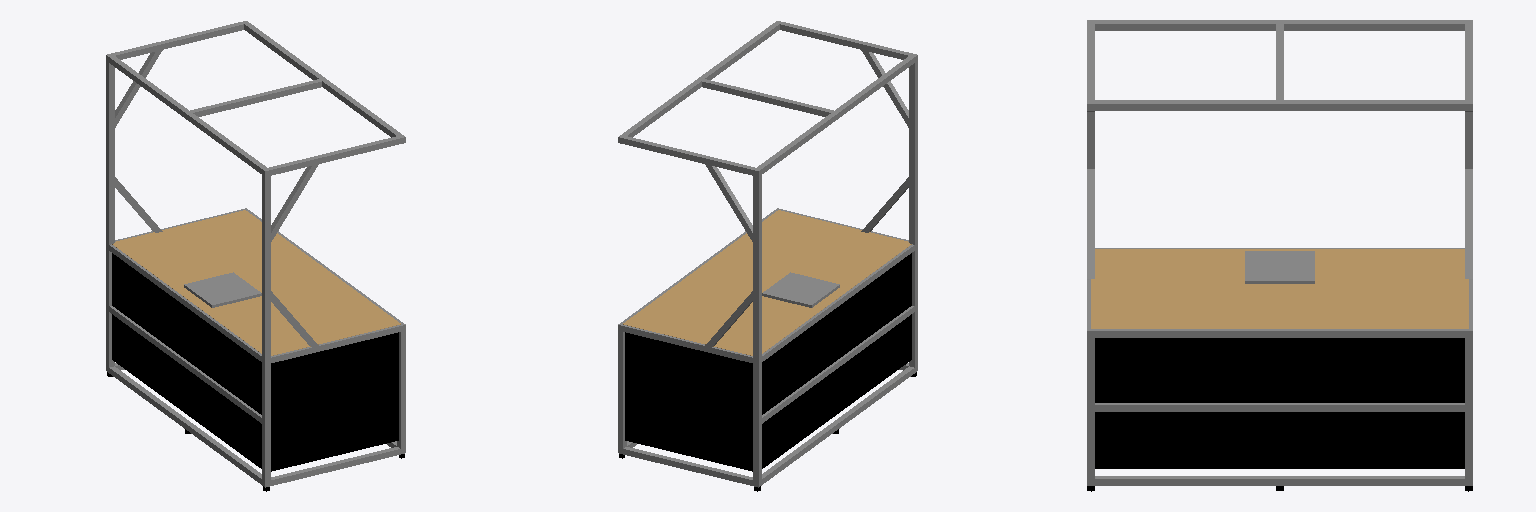
--- What the picture shows (computed from the rendered views, not written in the file) ---
The picture shows the robot from 3 angles, left to right: view 1: azimuth 30°, elevation 25°; view 2: azimuth 150°, elevation 25°; view 3: azimuth 270°, elevation 25°; orthographic projection.
Robot: robot — 34 links, 33 joints (33 fixed); root link table_plane; default pose: every joint at zero.
Links seen in each view (by area): view 1: support_body, table_plane, top_back, back_lower, top_back_right, top_front, top_back_left, panda_ground, back_mid, back_upper, top_side_right, vert_back_right (+8 smaller); view 2: support_body, table_plane, top_back, back_lower, top_back_left, top_front, top_back_right, panda_ground, back_mid, back_upper, top_side_left, vert_back_left (+8 smaller); view 3: support_body, table_plane, top_front, top_back, front_lower, front_upper, front_mid, panda_ground, vert_front_left, vert_front_right, rot_lower_right, rot_lower_left (+3 smaller).
Boxes of the visible links, x1,y1,x2,y2 form: support_body: (112, 253, 398, 471); table_plane: (112, 210, 400, 355); top_back: (109, 56, 266, 173); back_lower: (109, 366, 261, 484); top_back_right: (262, 168, 270, 358); top_front: (244, 23, 401, 137); top_back_left: (106, 53, 114, 244); panda_ground: (184, 272, 261, 307); back_mid: (109, 306, 261, 423); back_upper: (109, 244, 261, 361); top_side_right: (262, 135, 405, 176); vert_back_right: (262, 357, 270, 487); support_body: (625, 253, 911, 471); table_plane: (623, 210, 911, 355); top_back: (757, 56, 914, 173); back_lower: (762, 366, 914, 484); top_back_left: (753, 168, 761, 358); top_front: (622, 23, 779, 137); top_back_right: (909, 53, 917, 244); panda_ground: (762, 272, 839, 307); back_mid: (762, 306, 914, 423); back_upper: (762, 244, 914, 361); top_side_left: (618, 135, 761, 176); vert_back_left: (753, 357, 761, 487); support_body: (1095, 338, 1464, 468); table_plane: (1091, 249, 1468, 328); top_front: (1095, 100, 1464, 110); top_back: (1095, 20, 1464, 30); front_lower: (1095, 476, 1464, 485); front_upper: (1095, 329, 1464, 337); front_mid: (1095, 403, 1464, 411); panda_ground: (1245, 251, 1314, 283); vert_front_left: (1465, 327, 1472, 485); vert_front_right: (1087, 327, 1094, 485); rot_lower_right: (1465, 169, 1472, 278); rot_lower_left: (1087, 169, 1094, 278).
Size in the robot's own frame: 1.02 by 2 by 2.22 metres.
Geometry: primitives only (box / cylinder / sphere), no mesh files.

robot.urdf — robot:
<?xml version="0.0" ?>

<robot name="">
    <material name="rgba:table_plane">
    <color rgba= "0.8 0.655 0.45 1."/>
    </material>
    <material name="rgba:table">
        <color rgba= "0.6 0.6 0.6 1."/>
    </material>
    <material name="rgba:table_feet">
        <color rgba= "0. 0. 0. 1."/>
    </material>
	<link name="table_plane">
		<inertial>
			<origin rpy="0.00000 -0.00000 0.00000" xyz="0.00000 0.00000 0.00000"/>
			<mass value="3.84160"/>
			<inertia ixx="1.22983" ixy="0" ixz="0" iyy="0.30746" iyz="0" izz="1.53728"/>
		</inertial>
		<collision>
			<origin rpy="0.00000 -0.00000 0.00000" xyz="0.00000 0.00000 0.00000"/>
			<geometry>
				<box size="0.98000 1.96000 0.00200"/>
			</geometry>
		</collision>
		<visual>
		<origin rpy="0.00000 -0.00000 0.00000" xyz="0.00000 0.00000 0.00000"/>
            <geometry>
                <box size="0.98000 1.96000 0.00200"/>
            </geometry>
          <origin xyz="0 0 0" rpy="0 0 0" />
          <material name="rgba:table_plane"/>
        </visual>

	</link>
	<link name="panda_ground">
		<inertial>
			<origin rpy="0.00000 -0.00000 0.00000" xyz="0.00000 0.00000 0.00000"/>
			<mass value="2.59200"/>
			<inertia ixx="0.02808" ixy="0" ixz="0" iyy="0.02808" iyz="0" izz="0.05599"/>
		</inertial>
		<collision>
			<origin rpy="0.00000 -0.00000 0.00000" xyz="0.00000 0.00000 0.00000"/>
			<geometry>
				<box size="0.36000 0.36000 0.02000"/>
			</geometry>
		</collision>
		<visual>
			<origin rpy="0.00000 -0.00000 0.00000" xyz="0.00000 0.00000 0.00000"/>
			<geometry>
				<box size="0.36000 0.36000 0.02000"/>
			</geometry>
			<material name="rgba:table"/>
		</visual>
	</link>
	<link name="front_upper">
		<inertial>
			<origin rpy="0.00000 -0.00000 0.00000" xyz="0.00000 0.00000 0.00000"/>
			<mass value="3.07200"/>
			<inertia ixx="0.94413" ixy="0" ixz="0" iyy="0.00082" iyz="0" izz="0.94413"/>
		</inertial>
		<collision>
			<origin rpy="0.00000 -0.00000 0.00000" xyz="0.00000 0.00000 0.00000"/>
			<geometry>
				<box size="0.04000 1.92000 0.04000"/>
			</geometry>
		</collision>
		<visual>
			<origin rpy="0.00000 -0.00000 0.00000" xyz="0.00000 0.00000 0.00000"/>
			<geometry>
				<box size="0.04000 1.92000 0.04000"/>
			</geometry>
			<material name="rgba:table"/>
		</visual>
	</link>
	<link name="front_mid">
		<inertial>
			<origin rpy="0.00000 -0.00000 0.00000" xyz="0.00000 0.00000 0.00000"/>
			<mass value="3.07200"/>
			<inertia ixx="0.94413" ixy="0" ixz="0" iyy="0.00082" iyz="0" izz="0.94413"/>
		</inertial>
		<collision>
			<origin rpy="0.00000 -0.00000 0.00000" xyz="0.00000 0.00000 0.00000"/>
			<geometry>
				<box size="0.04000 1.92000 0.04000"/>
			</geometry>
		</collision>
		<visual>
			<origin rpy="0.00000 -0.00000 0.00000" xyz="0.00000 0.00000 0.00000"/>
			<geometry>
				<box size="0.04000 1.92000 0.04000"/>
			</geometry>
			<material name="rgba:table"/>
		</visual>
	</link>
	<link name="front_lower">
		<inertial>
			<origin rpy="0.00000 -0.00000 0.00000" xyz="0.00000 0.00000 0.00000"/>
			<mass value="3.07200"/>
			<inertia ixx="0.94413" ixy="0" ixz="0" iyy="0.00082" iyz="0" izz="0.94413"/>
		</inertial>
		<collision>
			<origin rpy="0.00000 -0.00000 0.00000" xyz="0.00000 0.00000 0.00000"/>
			<geometry>
				<box size="0.04000 1.92000 0.04000"/>
			</geometry>
		</collision>
		<visual>
			<origin rpy="0.00000 -0.00000 0.00000" xyz="0.00000 0.00000 0.00000"/>
			<geometry>
				<box size="0.04000 1.92000 0.04000"/>
			</geometry>
			<material name="rgba:table"/>
		</visual>
	</link>
	<link name="back_upper">
		<inertial>
			<origin rpy="0.00000 -0.00000 0.00000" xyz="0.00000 0.00000 0.00000"/>
			<mass value="3.07200"/>
			<inertia ixx="0.94413" ixy="0" ixz="0" iyy="0.00082" iyz="0" izz="0.94413"/>
		</inertial>
		<collision>
			<origin rpy="0.00000 -0.00000 0.00000" xyz="0.00000 0.00000 0.00000"/>
			<geometry>
				<box size="0.04000 1.92000 0.04000"/>
			</geometry>
		</collision>
		<visual>
			<origin rpy="0.00000 -0.00000 0.00000" xyz="0.00000 0.00000 0.00000"/>
			<geometry>
				<box size="0.04000 1.92000 0.04000"/>
			</geometry>
			<material name="rgba:table"/>
		</visual>
	</link>
	<link name="back_mid">
		<inertial>
			<origin rpy="0.00000 -0.00000 0.00000" xyz="0.00000 0.00000 0.00000"/>
			<mass value="3.07200"/>
			<inertia ixx="0.94413" ixy="0" ixz="0" iyy="0.00082" iyz="0" izz="0.94413"/>
		</inertial>
		<collision>
			<origin rpy="0.00000 -0.00000 0.00000" xyz="0.00000 0.00000 0.00000"/>
			<geometry>
				<box size="0.04000 1.92000 0.04000"/>
			</geometry>
		</collision>
		<visual>
			<origin rpy="0.00000 -0.00000 0.00000" xyz="0.00000 0.00000 0.00000"/>
			<geometry>
				<box size="0.04000 1.92000 0.04000"/>
			</geometry>
			<material name="rgba:table"/>
		</visual>
	</link>
	<link name="back_lower">
		<inertial>
			<origin rpy="0.00000 -0.00000 0.00000" xyz="0.00000 0.00000 0.00000"/>
			<mass value="3.07200"/>
			<inertia ixx="0.94413" ixy="0" ixz="0" iyy="0.00082" iyz="0" izz="0.94413"/>
		</inertial>
		<collision>
			<origin rpy="0.00000 -0.00000 0.00000" xyz="0.00000 0.00000 0.00000"/>
			<geometry>
				<box size="0.04000 1.92000 0.04000"/>
			</geometry>
		</collision>
		<visual>
			<origin rpy="0.00000 -0.00000 0.00000" xyz="0.00000 0.00000 0.00000"/>
			<geometry>
				<box size="0.04000 1.92000 0.04000"/>
			</geometry>
			<material name="rgba:table"/>
		</visual>
	</link>
	<link name="vert_front_left">
		<inertial>
			<origin rpy="0.00000 -0.00000 0.00000" xyz="0.00000 0.00000 0.00000"/>
			<mass value="1.42400"/>
			<inertia ixx="0.09419" ixy="0" ixz="0" iyy="0.09419" iyz="0" izz="0.00038"/>
		</inertial>
		<collision>
			<origin rpy="0.00000 -0.00000 0.00000" xyz="0.00000 0.00000 0.00000"/>
			<geometry>
				<box size="0.04000 0.04000 0.89000"/>
			</geometry>
		</collision>
		<visual>
			<origin rpy="0.00000 -0.00000 0.00000" xyz="0.00000 0.00000 0.00000"/>
			<geometry>
				<box size="0.04000 0.04000 0.89000"/>
			</geometry>
			<material name="rgba:table"/>
		</visual>
	</link>
	<link name="vert_front_right">
		<inertial>
			<origin rpy="0.00000 -0.00000 0.00000" xyz="0.00000 0.00000 0.00000"/>
			<mass value="1.42400"/>
			<inertia ixx="0.09419" ixy="0" ixz="0" iyy="0.09419" iyz="0" izz="0.00038"/>
		</inertial>
		<collision>
			<origin rpy="0.00000 -0.00000 0.00000" xyz="0.00000 0.00000 0.00000"/>
			<geometry>
				<box size="0.04000 0.04000 0.89000"/>
			</geometry>
		</collision>
		<visual>
			<origin rpy="0.00000 -0.00000 0.00000" xyz="0.00000 0.00000 0.00000"/>
			<geometry>
				<box size="0.04000 0.04000 0.89000"/>
			</geometry>
			<material name="rgba:table"/>
		</visual>
	</link>
	<link name="vert_back_left">
		<inertial>
			<origin rpy="0.00000 -0.00000 0.00000" xyz="0.00000 0.00000 0.00000"/>
			<mass value="1.42400"/>
			<inertia ixx="0.09419" ixy="0" ixz="0" iyy="0.09419" iyz="0" izz="0.00038"/>
		</inertial>
		<collision>
			<origin rpy="0.00000 -0.00000 0.00000" xyz="0.00000 0.00000 0.00000"/>
			<geometry>
				<box size="0.04000 0.04000 0.89000"/>
			</geometry>
		</collision>
		<visual>
			<origin rpy="0.00000 -0.00000 0.00000" xyz="0.00000 0.00000 0.00000"/>
			<geometry>
				<box size="0.04000 0.04000 0.89000"/>
			</geometry>
			<material name="rgba:table"/>
		</visual>
	</link>
	<link name="vert_back_right">
		<inertial>
			<origin rpy="0.00000 -0.00000 0.00000" xyz="0.00000 0.00000 0.00000"/>
			<mass value="1.42400"/>
			<inertia ixx="0.09419" ixy="0" ixz="0" iyy="0.09419" iyz="0" izz="0.00038"/>
		</inertial>
		<collision>
			<origin rpy="0.00000 -0.00000 0.00000" xyz="0.00000 0.00000 0.00000"/>
			<geometry>
				<box size="0.04000 0.04000 0.89000"/>
			</geometry>
		</collision>
		<visual>
			<origin rpy="0.00000 -0.00000 0.00000" xyz="0.00000 0.00000 0.00000"/>
			<geometry>
				<box size="0.04000 0.04000 0.89000"/>
			</geometry>
			<material name="rgba:table"/>
		</visual>
	</link>
	<link name="side_upper_right">
		<inertial>
			<origin rpy="0.00000 -0.00000 0.00000" xyz="0.00000 0.00000 0.00000"/>
			<mass value="1.50400"/>
			<inertia ixx="0.00040" ixy="0" ixz="0" iyy="0.11095" iyz="0" izz="0.11095"/>
		</inertial>
		<collision>
			<origin rpy="0.00000 -0.00000 0.00000" xyz="0.00000 0.00000 0.00000"/>
			<geometry>
				<box size="0.94000 0.04000 0.04000"/>
			</geometry>
		</collision>
		<visual>
			<origin rpy="0.00000 -0.00000 0.00000" xyz="0.00000 0.00000 0.00000"/>
			<geometry>
				<box size="0.94000 0.04000 0.04000"/>
			</geometry>
			<material name="rgba:table"/>
		</visual>
	</link>
	<link name="side_lower_right">
		<inertial>
			<origin rpy="0.00000 -0.00000 0.00000" xyz="0.00000 0.00000 0.00000"/>
			<mass value="1.50400"/>
			<inertia ixx="0.00040" ixy="0" ixz="0" iyy="0.11095" iyz="0" izz="0.11095"/>
		</inertial>
		<collision>
			<origin rpy="0.00000 -0.00000 0.00000" xyz="0.00000 0.00000 0.00000"/>
			<geometry>
				<box size="0.94000 0.04000 0.04000"/>
			</geometry>
		</collision>
		<visual>
			<origin rpy="0.00000 -0.00000 0.00000" xyz="0.00000 0.00000 0.00000"/>
			<geometry>
				<box size="0.94000 0.04000 0.04000"/>
			</geometry>
			<material name="rgba:table"/>
		</visual>
	</link>
	<link name="side_upper_left">
		<inertial>
			<origin rpy="0.00000 -0.00000 0.00000" xyz="0.00000 0.00000 0.00000"/>
			<mass value="1.50400"/>
			<inertia ixx="0.00040" ixy="0" ixz="0" iyy="0.11095" iyz="0" izz="0.11095"/>
		</inertial>
		<collision>
			<origin rpy="0.00000 -0.00000 0.00000" xyz="0.00000 0.00000 0.00000"/>
			<geometry>
				<box size="0.94000 0.04000 0.04000"/>
			</geometry>
		</collision>
		<visual>
			<origin rpy="0.00000 -0.00000 0.00000" xyz="0.00000 0.00000 0.00000"/>
			<geometry>
				<box size="0.94000 0.04000 0.04000"/>
			</geometry>
			<material name="rgba:table"/>
		</visual>
	</link>
	<link name="side_lower_left">
		<inertial>
			<origin rpy="0.00000 -0.00000 0.00000" xyz="0.00000 0.00000 0.00000"/>
			<mass value="1.50400"/>
			<inertia ixx="0.00040" ixy="0" ixz="0" iyy="0.11095" iyz="0" izz="0.11095"/>
		</inertial>
		<collision>
			<origin rpy="0.00000 -0.00000 0.00000" xyz="0.00000 0.00000 0.00000"/>
			<geometry>
				<box size="0.94000 0.04000 0.04000"/>
			</geometry>
		</collision>
		<visual>
			<origin rpy="0.00000 -0.00000 0.00000" xyz="0.00000 0.00000 0.00000"/>
			<geometry>
				<box size="0.94000 0.04000 0.04000"/>
			</geometry>
			<material name="rgba:table"/>
		</visual>
	</link>
	<link name="foot_front_left">
		<inertial>
			<origin rpy="0.00000 -0.00000 0.00000" xyz="0.00000 0.00000 0.00000"/>
			<mass value="0.05027"/>
			<inertia ixx="0.00001" ixy="0" ixz="0" iyy="0.00001" iyz="0" izz="0.00001"/>
		</inertial>
		<collision>
			<origin rpy="0.00000 -0.00000 0.00000" xyz="0.00000 0.00000 0.00000"/>
			<geometry>
				<cylinder length="0.04000" radius="0.02000"/>
			</geometry>
		</collision>
		<visual>
			<origin rpy="0.00000 -0.00000 0.00000" xyz="0.00000 0.00000 0.00000"/>
			<geometry>
				<cylinder length="0.04000" radius="0.02000"/>
			</geometry>
			<material name="rgba:table_feet"/>
		</visual>
	</link>
	<link name="foot_front_mid">
		<inertial>
			<origin rpy="0.00000 -0.00000 0.00000" xyz="0.00000 0.00000 0.00000"/>
			<mass value="0.05027"/>
			<inertia ixx="0.00001" ixy="0" ixz="0" iyy="0.00001" iyz="0" izz="0.00001"/>
		</inertial>
		<collision>
			<origin rpy="0.00000 -0.00000 0.00000" xyz="0.00000 0.00000 0.00000"/>
			<geometry>
				<cylinder length="0.04000" radius="0.02000"/>
			</geometry>
		</collision>
		<visual>
			<origin rpy="0.00000 -0.00000 0.00000" xyz="0.00000 0.00000 0.00000"/>
			<geometry>
				<cylinder length="0.04000" radius="0.02000"/>
			</geometry>
			<material name="rgba:table_feet"/>
		</visual>
	</link>
	<link name="foot_front_right">
		<inertial>
			<origin rpy="0.00000 -0.00000 0.00000" xyz="0.00000 0.00000 0.00000"/>
			<mass value="0.05027"/>
			<inertia ixx="0.00001" ixy="0" ixz="0" iyy="0.00001" iyz="0" izz="0.00001"/>
		</inertial>
		<collision>
			<origin rpy="0.00000 -0.00000 0.00000" xyz="0.00000 0.00000 0.00000"/>
			<geometry>
				<cylinder length="0.04000" radius="0.02000"/>
			</geometry>
		</collision>
		<visual>
			<origin rpy="0.00000 -0.00000 0.00000" xyz="0.00000 0.00000 0.00000"/>
			<geometry>
				<cylinder length="0.04000" radius="0.02000"/>
			</geometry>
			<material name="rgba:table_feet"/>
		</visual>
	</link>
	<link name="foot_back_left">
		<inertial>
			<origin rpy="0.00000 -0.00000 0.00000" xyz="0.00000 0.00000 0.00000"/>
			<mass value="0.05027"/>
			<inertia ixx="0.00001" ixy="0" ixz="0" iyy="0.00001" iyz="0" izz="0.00001"/>
		</inertial>
		<collision>
			<origin rpy="0.00000 -0.00000 0.00000" xyz="0.00000 0.00000 0.00000"/>
			<geometry>
				<cylinder length="0.04000" radius="0.02000"/>
			</geometry>
		</collision>
		<visual>
			<origin rpy="0.00000 -0.00000 0.00000" xyz="0.00000 0.00000 0.00000"/>
			<geometry>
				<cylinder length="0.04000" radius="0.02000"/>
			</geometry>
			<material name="rgba:table_feet"/>
		</visual>
	</link>
	<link name="foot_back_mid">
		<inertial>
			<origin rpy="0.00000 -0.00000 0.00000" xyz="0.00000 0.00000 0.00000"/>
			<mass value="0.05027"/>
			<inertia ixx="0.00001" ixy="0" ixz="0" iyy="0.00001" iyz="0" izz="0.00001"/>
		</inertial>
		<collision>
			<origin rpy="0.00000 -0.00000 0.00000" xyz="0.00000 0.00000 0.00000"/>
			<geometry>
				<cylinder length="0.04000" radius="0.02000"/>
			</geometry>
		</collision>
		<visual>
			<origin rpy="0.00000 -0.00000 0.00000" xyz="0.00000 0.00000 0.00000"/>
			<geometry>
				<cylinder length="0.04000" radius="0.02000"/>
			</geometry>
			<material name="rgba:table_feet"/>
		</visual>
	</link>
	<link name="foot_back_right">
		<inertial>
			<origin rpy="0.00000 -0.00000 0.00000" xyz="0.00000 0.00000 0.00000"/>
			<mass value="0.05027"/>
			<inertia ixx="0.00001" ixy="0" ixz="0" iyy="0.00001" iyz="0" izz="0.00001"/>
		</inertial>
		<collision>
			<origin rpy="0.00000 -0.00000 0.00000" xyz="0.00000 0.00000 0.00000"/>
			<geometry>
				<cylinder length="0.04000" radius="0.02000"/>
			</geometry>
		</collision>
		<visual>
			<origin rpy="0.00000 -0.00000 0.00000" xyz="0.00000 0.00000 0.00000"/>
			<geometry>
				<cylinder length="0.04000" radius="0.02000"/>
			</geometry>
			<material name="rgba:table_feet"/>
		</visual>
	</link>
	<link name="top_back_left">
		<inertial>
			<origin rpy="0.00000 -0.00000 0.00000" xyz="0.00000 0.00000 0.00000"/>
			<mass value="2.08000"/>
			<inertia ixx="0.29321" ixy="0" ixz="0" iyy="0.29321" iyz="0" izz="0.00055"/>
		</inertial>
		<collision>
			<origin rpy="0.00000 -0.00000 0.00000" xyz="0.00000 0.00000 0.00000"/>
			<geometry>
				<box size="0.04000 0.04000 1.30000"/>
			</geometry>
		</collision>
		<visual>
			<origin rpy="0.00000 -0.00000 0.00000" xyz="0.00000 0.00000 0.00000"/>
			<geometry>
				<box size="0.04000 0.04000 1.30000"/>
			</geometry>
			<material name="rgba:table"/>
		</visual>
	</link>
	<link name="top_back_right">
		<inertial>
			<origin rpy="0.00000 -0.00000 0.00000" xyz="0.00000 0.00000 0.00000"/>
			<mass value="2.08000"/>
			<inertia ixx="0.29321" ixy="0" ixz="0" iyy="0.29321" iyz="0" izz="0.00055"/>
		</inertial>
		<collision>
			<origin rpy="0.00000 -0.00000 0.00000" xyz="0.00000 0.00000 0.00000"/>
			<geometry>
				<box size="0.04000 0.04000 1.30000"/>
			</geometry>
		</collision>
		<visual>
			<origin rpy="0.00000 -0.00000 0.00000" xyz="0.00000 0.00000 0.00000"/>
			<geometry>
				<box size="0.04000 0.04000 1.30000"/>
			</geometry>
			<material name="rgba:table"/>
		</visual>
	</link>
	<link name="top_front">
		<inertial>
			<origin rpy="0.00000 -0.00000 0.00000" xyz="0.00000 0.00000 0.00000"/>
			<mass value="3.07200"/>
			<inertia ixx="0.94413" ixy="0" ixz="0" iyy="0.00082" iyz="0" izz="0.94413"/>
		</inertial>
		<collision>
			<origin rpy="0.00000 -0.00000 0.00000" xyz="0.00000 0.00000 0.00000"/>
			<geometry>
				<box size="0.04000 1.92000 0.04000"/>
			</geometry>
		</collision>
		<visual>
			<origin rpy="0.00000 -0.00000 0.00000" xyz="0.00000 0.00000 0.00000"/>
			<geometry>
				<box size="0.04000 1.92000 0.04000"/>
			</geometry>
			<material name="rgba:table"/>
		</visual>
	</link>
	<link name="top_back">
		<inertial>
			<origin rpy="0.00000 -0.00000 0.00000" xyz="0.00000 0.00000 0.00000"/>
			<mass value="3.07200"/>
			<inertia ixx="0.94413" ixy="0" ixz="0" iyy="0.00082" iyz="0" izz="0.94413"/>
		</inertial>
		<collision>
			<origin rpy="0.00000 -0.00000 0.00000" xyz="0.00000 0.00000 0.00000"/>
			<geometry>
				<box size="0.04000 1.92000 0.04000"/>
			</geometry>
		</collision>
		<visual>
			<origin rpy="0.00000 -0.00000 0.00000" xyz="0.00000 0.00000 0.00000"/>
			<geometry>
				<box size="0.04000 1.92000 0.04000"/>
			</geometry>
			<material name="rgba:table"/>
		</visual>
	</link>
	<link name="top_side_right">
		<inertial>
			<origin rpy="0.00000 -0.00000 0.00000" xyz="0.00000 0.00000 0.00000"/>
			<mass value="1.63200"/>
			<inertia ixx="0.00044" ixy="0" ixz="0" iyy="0.14171" iyz="0" izz="0.14171"/>
		</inertial>
		<collision>
			<origin rpy="0.00000 -0.00000 0.00000" xyz="0.00000 0.00000 0.00000"/>
			<geometry>
				<box size="1.02000 0.04000 0.04000"/>
			</geometry>
		</collision>
		<visual>
			<origin rpy="0.00000 -0.00000 0.00000" xyz="0.00000 0.00000 0.00000"/>
			<geometry>
				<box size="1.02000 0.04000 0.04000"/>
			</geometry>
			<material name="rgba:table"/>
		</visual>
	</link>
	<link name="top_side_mid">
		<inertial>
			<origin rpy="0.00000 -0.00000 0.00000" xyz="0.00000 0.00000 0.00000"/>
			<mass value="1.63200"/>
			<inertia ixx="0.00044" ixy="0" ixz="0" iyy="0.14171" iyz="0" izz="0.14171"/>
		</inertial>
		<collision>
			<origin rpy="0.00000 -0.00000 0.00000" xyz="0.00000 0.00000 0.00000"/>
			<geometry>
				<box size="1.02000 0.04000 0.04000"/>
			</geometry>
		</collision>
		<visual>
			<origin rpy="0.00000 -0.00000 0.00000" xyz="0.00000 0.00000 0.00000"/>
			<geometry>
				<box size="1.02000 0.04000 0.04000"/>
			</geometry>
			<material name="rgba:table"/>
		</visual>
	</link>
	<link name="top_side_left">
		<inertial>
			<origin rpy="0.00000 -0.00000 0.00000" xyz="0.00000 0.00000 0.00000"/>
			<mass value="1.63200"/>
			<inertia ixx="0.00044" ixy="0" ixz="0" iyy="0.14171" iyz="0" izz="0.14171"/>
		</inertial>
		<collision>
			<origin rpy="0.00000 -0.00000 0.00000" xyz="0.00000 0.00000 0.00000"/>
			<geometry>
				<box size="1.02000 0.04000 0.04000"/>
			</geometry>
		</collision>
		<visual>
			<origin rpy="0.00000 -0.00000 0.00000" xyz="0.00000 0.00000 0.00000"/>
			<geometry>
				<box size="1.02000 0.04000 0.04000"/>
			</geometry>
			<material name="rgba:table"/>
		</visual>
	</link>
	<link name="rot_lower_right">
		<inertial>
			<origin rpy="0.00000 -0.00000 0.00000" xyz="0.00000 0.00000 0.00000"/>
			<mass value="0.96000"/>
			<inertia ixx="0.00026" ixy="0" ixz="0" iyy="0.02893" iyz="0" izz="0.02893"/>
		</inertial>
		<collision>
			<origin rpy="0.00000 -0.00000 0.00000" xyz="0.00000 0.00000 0.00000"/>
			<geometry>
				<box size="0.60000 0.04000 0.04000"/>
			</geometry>
		</collision>
		<visual>
			<origin rpy="0.00000 -0.00000 0.00000" xyz="0.00000 0.00000 0.00000"/>
			<geometry>
				<box size="0.60000 0.04000 0.04000"/>
			</geometry>
			<material name="rgba:table"/>
		</visual>
	</link>
	<link name="rot_lower_left">
		<inertial>
			<origin rpy="0.00000 -0.00000 0.00000" xyz="0.00000 0.00000 0.00000"/>
			<mass value="0.96000"/>
			<inertia ixx="0.00026" ixy="0" ixz="0" iyy="0.02893" iyz="0" izz="0.02893"/>
		</inertial>
		<collision>
			<origin rpy="0.00000 -0.00000 0.00000" xyz="0.00000 0.00000 0.00000"/>
			<geometry>
				<box size="0.60000 0.04000 0.04000"/>
			</geometry>
		</collision>
		<visual>
			<origin rpy="0.00000 -0.00000 0.00000" xyz="0.00000 0.00000 0.00000"/>
			<geometry>
				<box size="0.60000 0.04000 0.04000"/>
			</geometry>
			<material name="rgba:table"/>
		</visual>
	</link>
	<link name="rot_upper_right">
		<inertial>
			<origin rpy="0.00000 -0.00000 0.00000" xyz="0.00000 0.00000 0.00000"/>
			<mass value="0.96000"/>
			<inertia ixx="0.00026" ixy="0" ixz="0" iyy="0.02893" iyz="0" izz="0.02893"/>
		</inertial>
		<collision>
			<origin rpy="0.00000 -0.00000 0.00000" xyz="0.00000 0.00000 0.00000"/>
			<geometry>
				<box size="0.60000 0.04000 0.04000"/>
			</geometry>
		</collision>
		<visual>
			<origin rpy="0.00000 -0.00000 0.00000" xyz="0.00000 0.00000 0.00000"/>
			<geometry>
				<box size="0.60000 0.04000 0.04000"/>
			</geometry>
			<material name="rgba:table"/>
		</visual>
	</link>
	<link name="rot_upper_left">
		<inertial>
			<origin rpy="0.00000 -0.00000 0.00000" xyz="0.00000 0.00000 0.00000"/>
			<mass value="0.96000"/>
			<inertia ixx="0.00026" ixy="0" ixz="0" iyy="0.02893" iyz="0" izz="0.02893"/>
		</inertial>
		<collision>
			<origin rpy="0.00000 -0.00000 0.00000" xyz="0.00000 0.00000 0.00000"/>
			<geometry>
				<box size="0.60000 0.04000 0.04000"/>
			</geometry>
		</collision>
		<visual>
			<origin rpy="0.00000 -0.00000 0.00000" xyz="0.00000 0.00000 0.00000"/>
			<geometry>
				<box size="0.60000 0.04000 0.04000"/>
			</geometry>
			<material name="rgba:table"/>
		</visual>
	</link>
	<link name="support_body">
		<inertial>
			<origin rpy="0.00000 -0.00000 0.00000" xyz="0.00000 0.00000 0.00000"/>
			<mass value="1536.64008"/>
			<inertia ixx="573.88387" ixy="0" ixz="0" iyy="204.93657" iyz="0" izz="614.91216"/>
		</inertial>
		<collision>
			<origin rpy="0.00000 -0.00000 0.00000" xyz="0.00000 0.00000 0.00000"/>
			<geometry>
				<box size="0.98000 1.96000 0.80000"/>
			</geometry>
		</collision>
		<visual>
			<origin rpy="0.00000 -0.00000 0.00000" xyz="0.00000 0.00000 0.00000"/>
			<geometry>
				<box size="0.98000 1.96000 0.80000"/>
			</geometry>
          <material name="transparent">
            <color rgba="0. 0. 0. 0."/>
          </material>
		</visual>
	</link>
	<joint name="jointfix_0_0" type="fixed">
		<parent link="table_plane"/>
		<child link="panda_ground"/>
		<dynamics damping="1.0" friction="0.0001"/>
		<origin rpy="0.00000 -0.00000 0.00000" xyz="-0.24000 0.00000 0.01000"/>
		<axis xyz="0.00000 0.00000 0.00000"/>
	</joint>
	<joint name="jointfix_1_0" type="fixed">
		<parent link="table_plane"/>
		<child link="front_upper"/>
		<dynamics damping="1.0" friction="0.0001"/>
		<origin rpy="0.00000 -0.00000 0.00000" xyz="0.49000 0.00000 -0.02000"/>
		<axis xyz="0.00000 0.00000 0.00000"/>
	</joint>
	<joint name="jointfix_2_0" type="fixed">
		<parent link="table_plane"/>
		<child link="front_mid"/>
		<dynamics damping="1.0" friction="0.0001"/>
		<origin rpy="0.00000 -0.00000 0.00000" xyz="0.49000 0.00000 -0.44500"/>
		<axis xyz="0.00000 0.00000 0.00000"/>
	</joint>
	<joint name="jointfix_3_0" type="fixed">
		<parent link="table_plane"/>
		<child link="front_lower"/>
		<dynamics damping="1.0" friction="0.0001"/>
		<origin rpy="0.00000 -0.00000 0.00000" xyz="0.49000 0.00000 -0.87000"/>
		<axis xyz="0.00000 0.00000 0.00000"/>
	</joint>
	<joint name="jointfix_4_0" type="fixed">
		<parent link="table_plane"/>
		<child link="back_upper"/>
		<dynamics damping="1.0" friction="0.0001"/>
		<origin rpy="0.00000 -0.00000 0.00000" xyz="-0.49000 0.00000 -0.02000"/>
		<axis xyz="0.00000 0.00000 0.00000"/>
	</joint>
	<joint name="jointfix_5_0" type="fixed">
		<parent link="table_plane"/>
		<child link="back_mid"/>
		<dynamics damping="1.0" friction="0.0001"/>
		<origin rpy="0.00000 -0.00000 0.00000" xyz="-0.49000 0.00000 -0.44500"/>
		<axis xyz="0.00000 0.00000 0.00000"/>
	</joint>
	<joint name="jointfix_6_0" type="fixed">
		<parent link="table_plane"/>
		<child link="back_lower"/>
		<dynamics damping="1.0" friction="0.0001"/>
		<origin rpy="0.00000 -0.00000 0.00000" xyz="-0.49000 0.00000 -0.87000"/>
		<axis xyz="0.00000 0.00000 0.00000"/>
	</joint>
	<joint name="jointfix_7_0" type="fixed">
		<parent link="table_plane"/>
		<child link="vert_front_left"/>
		<dynamics damping="1.0" friction="0.0001"/>
		<origin rpy="0.00000 -0.00000 0.00000" xyz="0.49000 0.98000 -0.44500"/>
		<axis xyz="0.00000 0.00000 0.00000"/>
	</joint>
	<joint name="jointfix_8_0" type="fixed">
		<parent link="table_plane"/>
		<child link="vert_front_right"/>
		<dynamics damping="1.0" friction="0.0001"/>
		<origin rpy="0.00000 -0.00000 0.00000" xyz="0.49000 -0.98000 -0.44500"/>
		<axis xyz="0.00000 0.00000 0.00000"/>
	</joint>
	<joint name="jointfix_9_0" type="fixed">
		<parent link="table_plane"/>
		<child link="vert_back_left"/>
		<dynamics damping="1.0" friction="0.0001"/>
		<origin rpy="0.00000 -0.00000 0.00000" xyz="-0.49000 0.98000 -0.44500"/>
		<axis xyz="0.00000 0.00000 0.00000"/>
	</joint>
	<joint name="jointfix_10_0" type="fixed">
		<parent link="table_plane"/>
		<child link="vert_back_right"/>
		<dynamics damping="1.0" friction="0.0001"/>
		<origin rpy="0.00000 -0.00000 0.00000" xyz="-0.49000 -0.98000 -0.44500"/>
		<axis xyz="0.00000 0.00000 0.00000"/>
	</joint>
	<joint name="jointfix_11_0" type="fixed">
		<parent link="table_plane"/>
		<child link="side_upper_right"/>
		<dynamics damping="1.0" friction="0.0001"/>
		<origin rpy="0.00000 -0.00000 0.00000" xyz="0.00000 -0.98000 -0.02000"/>
		<axis xyz="0.00000 0.00000 0.00000"/>
	</joint>
	<joint name="jointfix_12_0" type="fixed">
		<parent link="table_plane"/>
		<child link="side_lower_right"/>
		<dynamics damping="1.0" friction="0.0001"/>
		<origin rpy="0.00000 -0.00000 0.00000" xyz="0.00000 -0.98000 -0.87000"/>
		<axis xyz="0.00000 0.00000 0.00000"/>
	</joint>
	<joint name="jointfix_13_0" type="fixed">
		<parent link="table_plane"/>
		<child link="side_upper_left"/>
		<dynamics damping="1.0" friction="0.0001"/>
		<origin rpy="0.00000 -0.00000 0.00000" xyz="0.00000 0.98000 -0.02000"/>
		<axis xyz="0.00000 0.00000 0.00000"/>
	</joint>
	<joint name="jointfix_14_0" type="fixed">
		<parent link="table_plane"/>
		<child link="side_lower_left"/>
		<dynamics damping="1.0" friction="0.0001"/>
		<origin rpy="0.00000 -0.00000 0.00000" xyz="0.00000 0.98000 -0.87000"/>
		<axis xyz="0.00000 0.00000 0.00000"/>
	</joint>
	<joint name="jointfix_15_0" type="fixed">
		<parent link="table_plane"/>
		<child link="foot_front_left"/>
		<dynamics damping="1.0" friction="0.0001"/>
		<origin rpy="0.00000 -0.00000 0.00000" xyz="0.49000 0.98000 -0.90000"/>
		<axis xyz="0.00000 0.00000 0.00000"/>
	</joint>
	<joint name="jointfix_16_0" type="fixed">
		<parent link="table_plane"/>
		<child link="foot_front_mid"/>
		<dynamics damping="1.0" friction="0.0001"/>
		<origin rpy="0.00000 -0.00000 0.00000" xyz="0.49000 0.00000 -0.90000"/>
		<axis xyz="0.00000 0.00000 0.00000"/>
	</joint>
	<joint name="jointfix_17_0" type="fixed">
		<parent link="table_plane"/>
		<child link="foot_front_right"/>
		<dynamics damping="1.0" friction="0.0001"/>
		<origin rpy="0.00000 -0.00000 0.00000" xyz="0.49000 -0.98000 -0.90000"/>
		<axis xyz="0.00000 0.00000 0.00000"/>
	</joint>
	<joint name="jointfix_18_0" type="fixed">
		<parent link="table_plane"/>
		<child link="foot_back_left"/>
		<dynamics damping="1.0" friction="0.0001"/>
		<origin rpy="0.00000 -0.00000 0.00000" xyz="-0.49000 0.98000 -0.90000"/>
		<axis xyz="0.00000 0.00000 0.00000"/>
	</joint>
	<joint name="jointfix_19_0" type="fixed">
		<parent link="table_plane"/>
		<child link="foot_back_mid"/>
		<dynamics damping="1.0" friction="0.0001"/>
		<origin rpy="0.00000 -0.00000 0.00000" xyz="-0.49000 0.00000 -0.90000"/>
		<axis xyz="0.00000 0.00000 0.00000"/>
	</joint>
	<joint name="jointfix_20_0" type="fixed">
		<parent link="table_plane"/>
		<child link="foot_back_right"/>
		<dynamics damping="1.0" friction="0.0001"/>
		<origin rpy="0.00000 -0.00000 0.00000" xyz="-0.49000 -0.98000 -0.90000"/>
		<axis xyz="0.00000 0.00000 0.00000"/>
	</joint>
	<joint name="jointfix_21_0" type="fixed">
		<parent link="table_plane"/>
		<child link="top_back_left"/>
		<dynamics damping="1.0" friction="0.0001"/>
		<origin rpy="0.00000 -0.00000 0.00000" xyz="-0.49000 0.98000 0.65000"/>
		<axis xyz="0.00000 0.00000 0.00000"/>
	</joint>
	<joint name="jointfix_22_0" type="fixed">
		<parent link="table_plane"/>
		<child link="top_back_right"/>
		<dynamics damping="1.0" friction="0.0001"/>
		<origin rpy="0.00000 -0.00000 0.00000" xyz="-0.49000 -0.98000 0.65000"/>
		<axis xyz="0.00000 0.00000 0.00000"/>
	</joint>
	<joint name="jointfix_23_0" type="fixed">
		<parent link="table_plane"/>
		<child link="top_front"/>
		<dynamics damping="1.0" friction="0.0001"/>
		<origin rpy="0.00000 -0.00000 0.00000" xyz="0.49000 0.00000 1.28000"/>
		<axis xyz="0.00000 0.00000 0.00000"/>
	</joint>
	<joint name="jointfix_24_0" type="fixed">
		<parent link="table_plane"/>
		<child link="top_back"/>
		<dynamics damping="1.0" friction="0.0001"/>
		<origin rpy="0.00000 -0.00000 0.00000" xyz="-0.49000 0.00000 1.28000"/>
		<axis xyz="0.00000 0.00000 0.00000"/>
	</joint>
	<joint name="jointfix_25_0" type="fixed">
		<parent link="table_plane"/>
		<child link="top_side_right"/>
		<dynamics damping="1.0" friction="0.0001"/>
		<origin rpy="0.00000 -0.00000 0.00000" xyz="0.00000 -0.98000 1.28000"/>
		<axis xyz="0.00000 0.00000 0.00000"/>
	</joint>
	<joint name="jointfix_26_0" type="fixed">
		<parent link="table_plane"/>
		<child link="top_side_mid"/>
		<dynamics damping="1.0" friction="0.0001"/>
		<origin rpy="0.00000 -0.00000 0.00000" xyz="0.00000 0.00000 1.28000"/>
		<axis xyz="0.00000 0.00000 0.00000"/>
	</joint>
	<joint name="jointfix_27_0" type="fixed">
		<parent link="table_plane"/>
		<child link="top_side_left"/>
		<dynamics damping="1.0" friction="0.0001"/>
		<origin rpy="0.00000 -0.00000 0.00000" xyz="0.00000 0.98000 1.28000"/>
		<axis xyz="0.00000 0.00000 0.00000"/>
	</joint>
	<joint name="jointfix_28_0" type="fixed">
		<parent link="table_plane"/>
		<child link="rot_lower_right"/>
		<dynamics damping="1.0" friction="0.0001"/>
		<origin rpy="0.00000 0.92730 0.00000" xyz="-0.31000 0.98000 0.22000"/>
		<axis xyz="0.00000 0.00000 0.00000"/>
	</joint>
	<joint name="jointfix_29_0" type="fixed">
		<parent link="table_plane"/>
		<child link="rot_lower_left"/>
		<dynamics damping="1.0" friction="0.0001"/>
		<origin rpy="0.00000 0.92730 0.00000" xyz="-0.31000 -0.98000 0.22000"/>
		<axis xyz="0.00000 0.00000 0.00000"/>
	</joint>
	<joint name="jointfix_30_0" type="fixed">
		<parent link="table_plane"/>
		<child link="rot_upper_right"/>
		<dynamics damping="1.0" friction="0.0001"/>
		<origin rpy="3.14159 0.92730 3.14159" xyz="-0.31000 0.98000 1.04000"/>
		<axis xyz="0.00000 0.00000 0.00000"/>
	</joint>
	<joint name="jointfix_31_0" type="fixed">
		<parent link="table_plane"/>
		<child link="rot_upper_left"/>
		<dynamics damping="1.0" friction="0.0001"/>
		<origin rpy="3.14159 0.92730 3.14159" xyz="-0.31000 -0.98000 1.04000"/>
		<axis xyz="0.00000 0.00000 0.00000"/>
	</joint>
	<joint name="jointfix_32_0" type="fixed">
		<parent link="table_plane"/>
		<child link="support_body"/>
		<dynamics damping="1.0" friction="0.0001"/>
		<origin rpy="0.00000 -0.00000 0.00000" xyz="0.00000 0.00000 -0.40000"/>
		<axis xyz="0.00000 0.00000 0.00000"/>
	</joint>
</robot>
